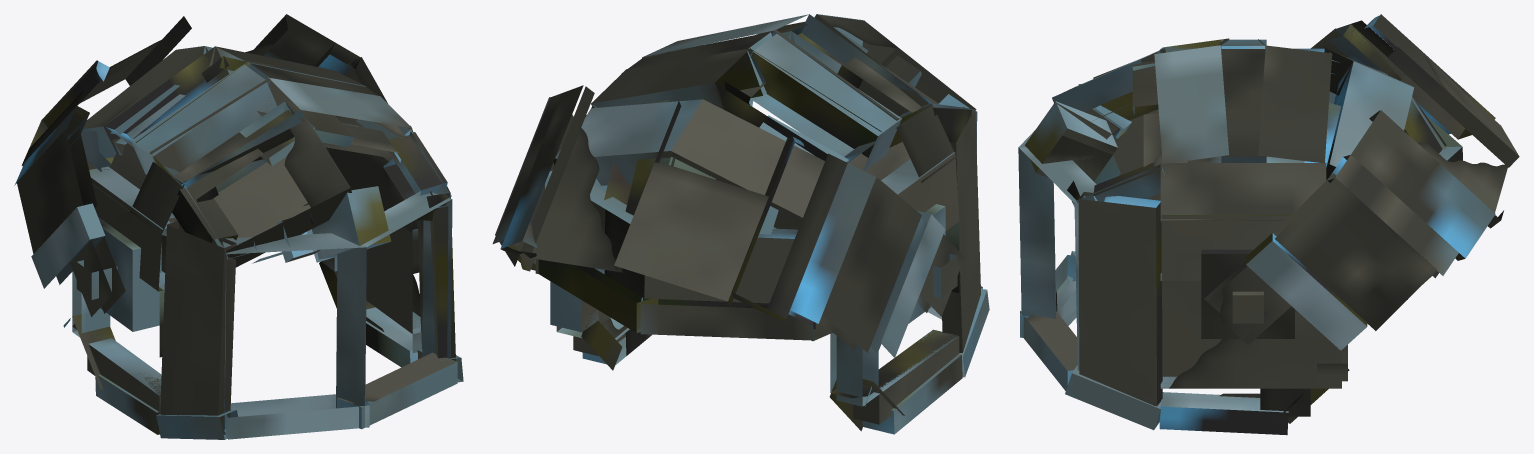
The model's file is zabralo_h.obj.
3 views of the same model, side by side, from view 1: azimuth 30°, elevation 25°; view 2: azimuth 150°, elevation 25°; view 3: azimuth 270°, elevation 25° (orthographic). The views are drawn at different scales.
Parts seen in each view (by area): view 1: zabralo_h, zabralo_h_glass; view 2: zabralo_h, zabralo_h_glass; view 3: zabralo_h, zabralo_h_glass.
Part boxes in pixels (x1,y1,x2,y2): zabralo_h: (63, 46, 463, 439); zabralo_h_glass: (14, 14, 413, 288); zabralo_h: (535, 14, 989, 434); zabralo_h_glass: (492, 85, 945, 357); zabralo_h: (1018, 38, 1462, 435); zabralo_h_glass: (1246, 14, 1519, 350).
Size of the model in its own units: 0.8222 by 0.7112 by 1.
